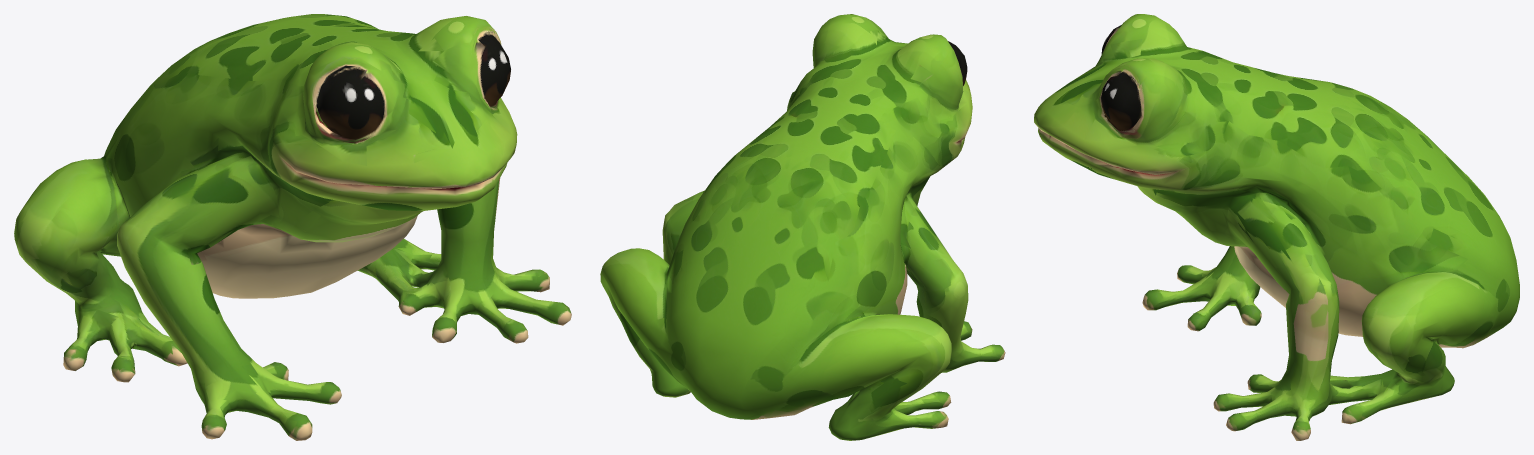
Rendered from frog_ai.glb.
The picture shows the model from 3 angles, left to right: view 1: azimuth 30°, elevation 25°; view 2: azimuth 150°, elevation 25°; view 3: azimuth 270°, elevation 25°; orthographic projection. The views are drawn at different scales.
Visible parts, largest first — view 1: Body; view 2: Body; view 3: Body.
Part boxes in pixels (<box>): Body: <box>14,14,571,440</box>; Body: <box>600,14,1005,440</box>; Body: <box>1034,14,1519,440</box>.
Bounding box in the file's own units: 1.48 × 1.15 × 1.64.
1 material, 1 textured.
